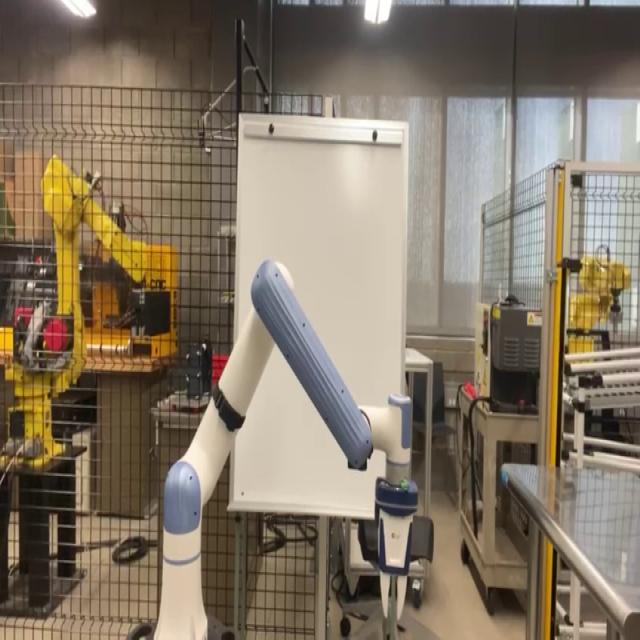robot: (125, 256, 433, 639)
